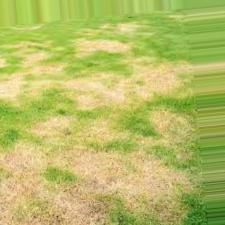patch: (21, 62, 176, 212)
